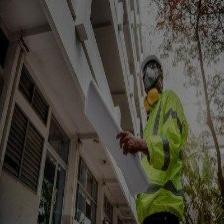Person: (115, 54, 189, 224)
helmet: (141, 53, 164, 77)
vest: (135, 90, 188, 224)
